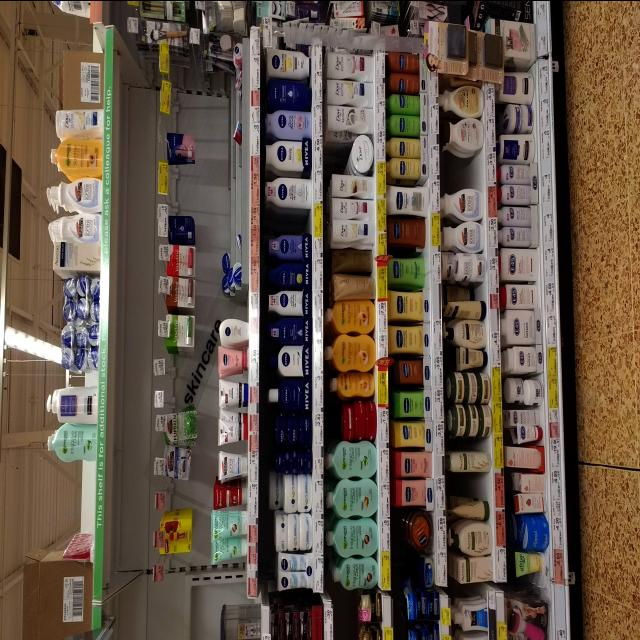empty_space: (38, 465, 94, 532), (443, 160, 479, 184)
